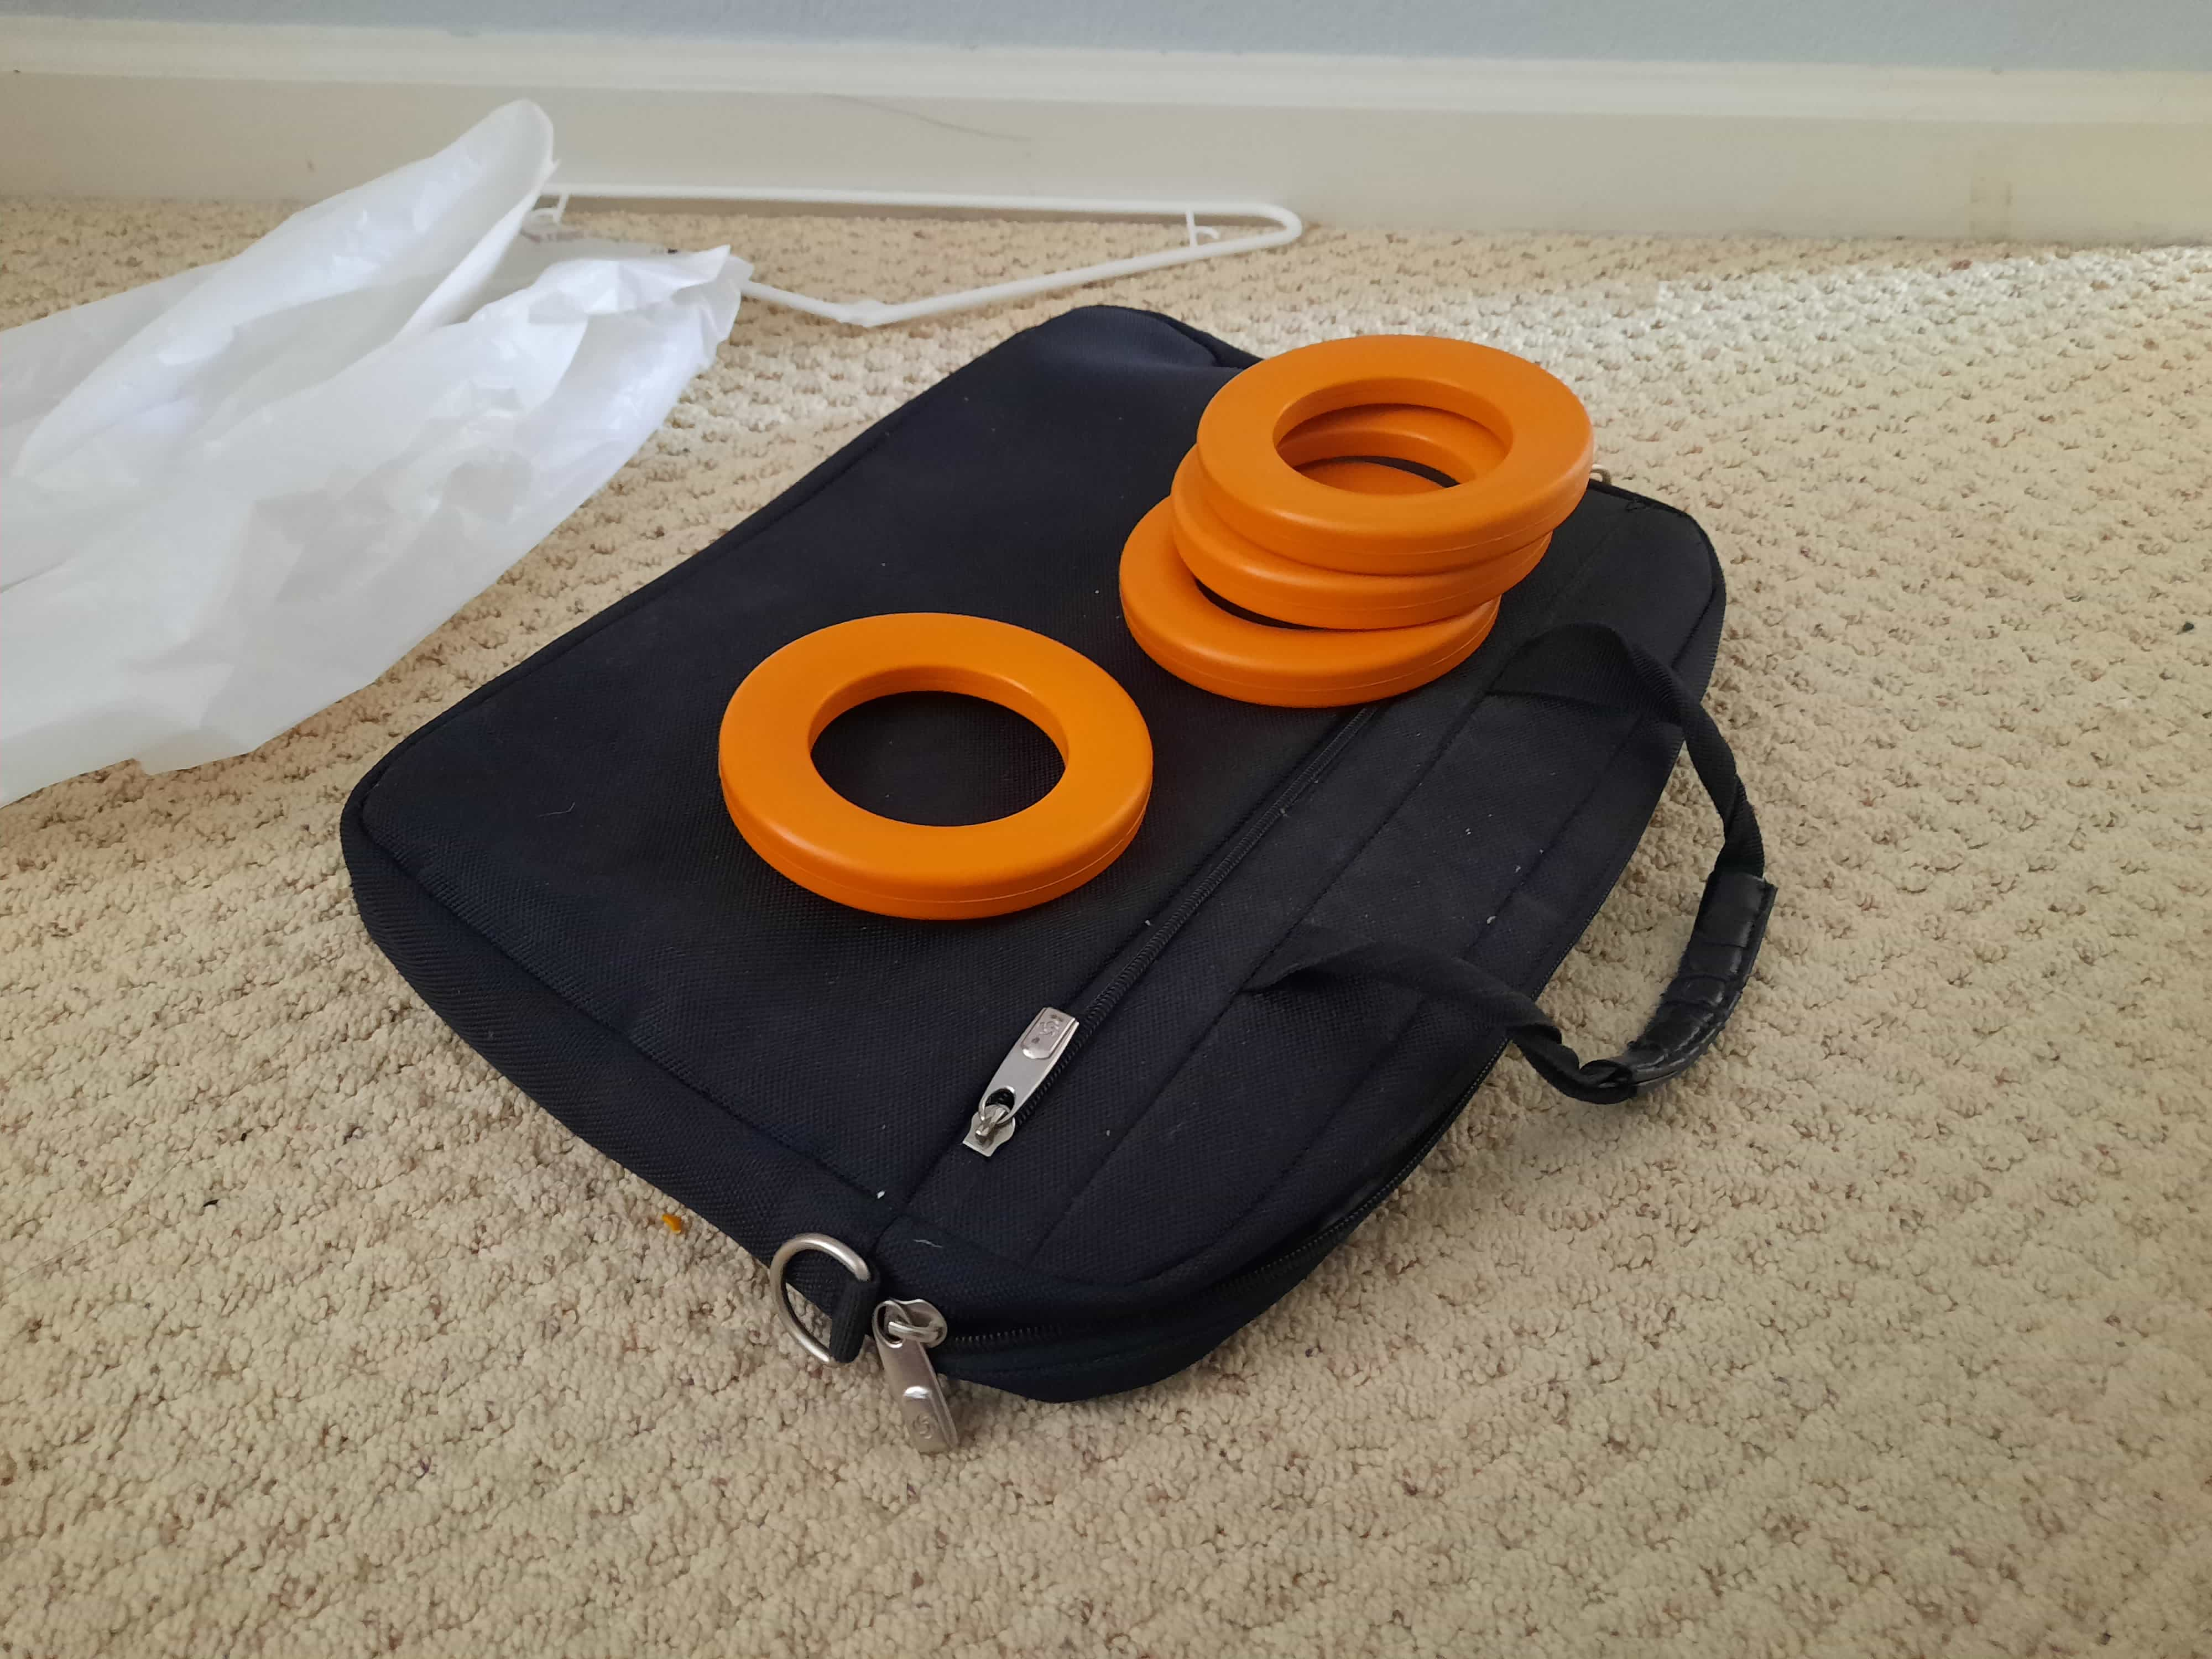FourStack: (1129, 333, 1595, 699)
OneStack: (726, 606, 1157, 908)
